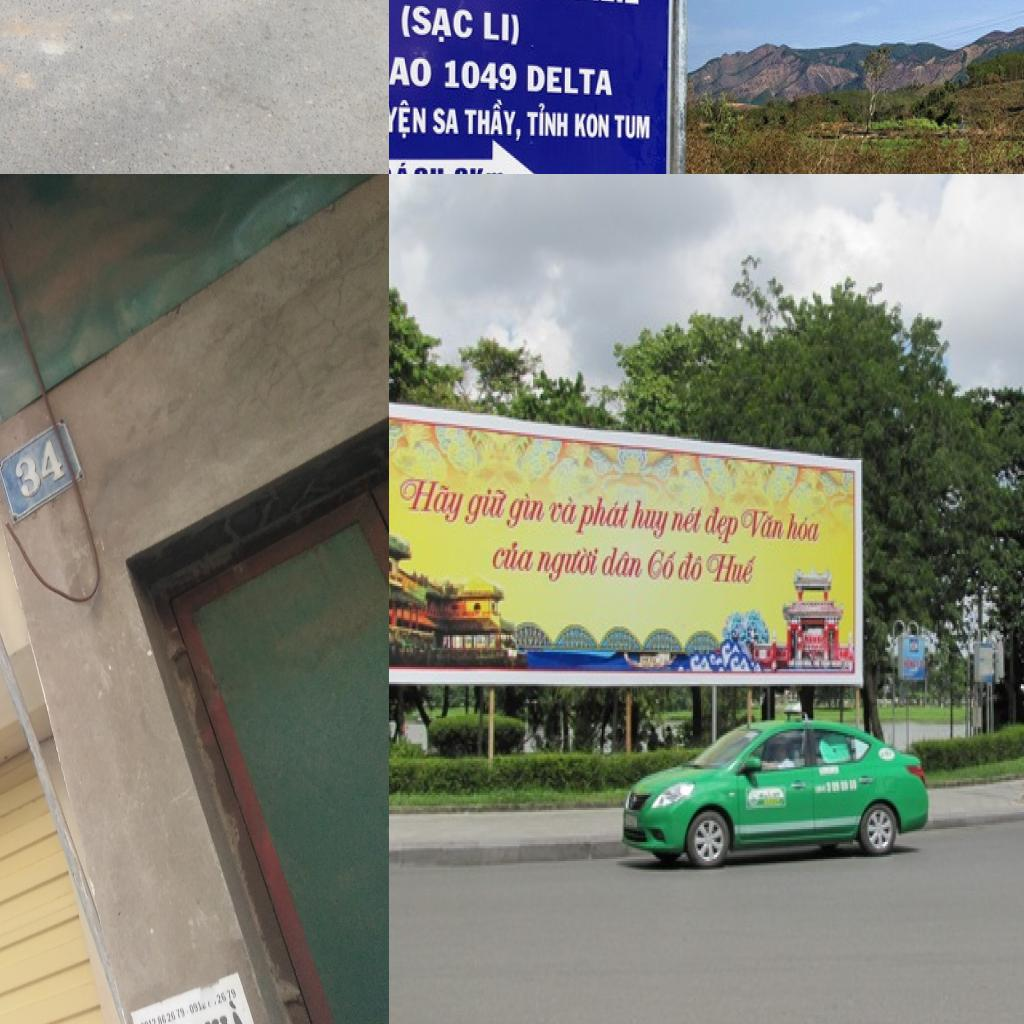text: (524, 57, 616, 102), (396, 471, 468, 528), (8, 436, 67, 500), (398, 0, 475, 48), (442, 54, 522, 100), (573, 488, 635, 543), (533, 543, 603, 588), (464, 98, 523, 143), (461, 486, 509, 534), (504, 490, 551, 537), (704, 550, 762, 588), (628, 496, 672, 546), (598, 541, 646, 584), (738, 503, 787, 545), (389, 48, 434, 93), (488, 539, 541, 577), (702, 502, 742, 550), (389, 96, 428, 144), (482, 6, 523, 51), (525, 100, 570, 141), (784, 507, 826, 550), (643, 543, 682, 588), (544, 492, 583, 531), (670, 503, 708, 539), (524, 0, 643, 11), (612, 112, 654, 141), (431, 103, 461, 143), (572, 110, 610, 141), (674, 550, 706, 586), (136, 1001, 185, 1024), (389, 159, 447, 174), (215, 983, 238, 1006), (187, 997, 202, 1014)
